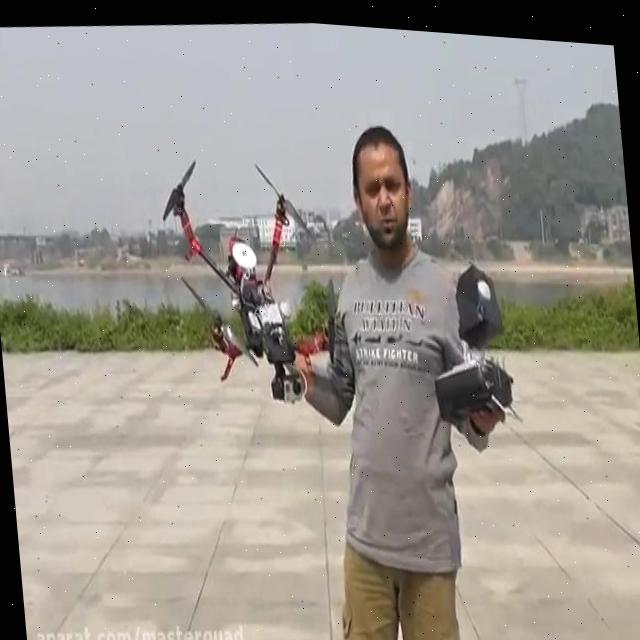drone: (152, 140, 344, 419)
